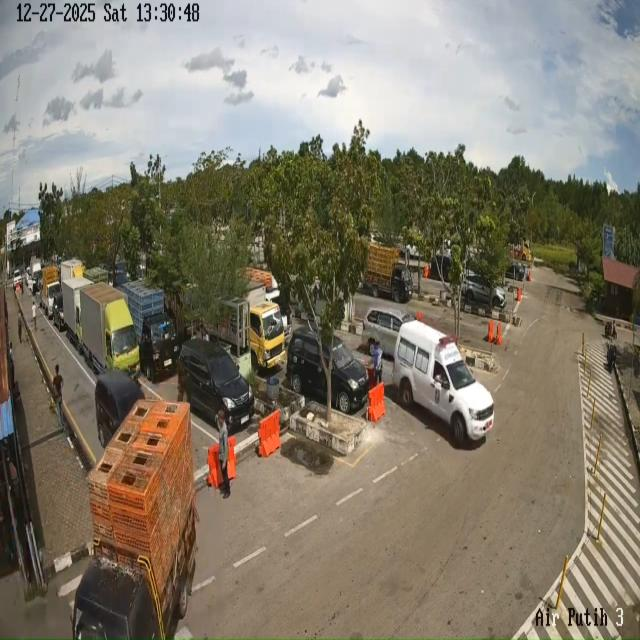Golongan IVA: (396, 315, 501, 452), (286, 327, 369, 414), (178, 338, 255, 429), (94, 369, 145, 448), (362, 308, 415, 356), (462, 272, 506, 309), (53, 292, 65, 331)
Golongan IVB: (63, 477, 212, 640)
Golongan VB: (211, 280, 286, 369), (80, 283, 139, 380), (363, 243, 413, 303)
